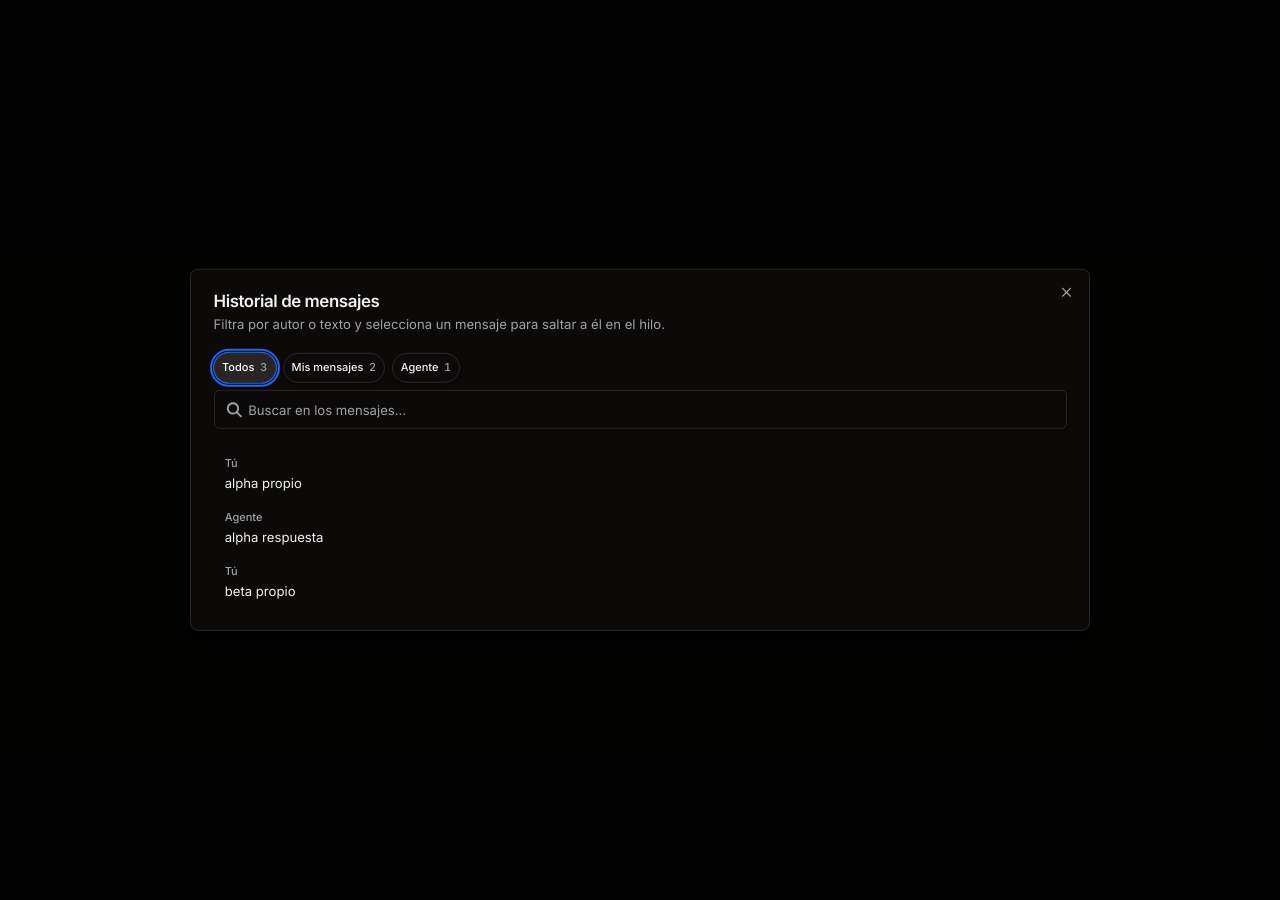
Test: ChatHistoryDialog — filtros combinados (U3) › aplica autor AND texto
Click the button with test id "chat-history-author-user": (334,367) x1=283 y1=352 x2=385 y2=382
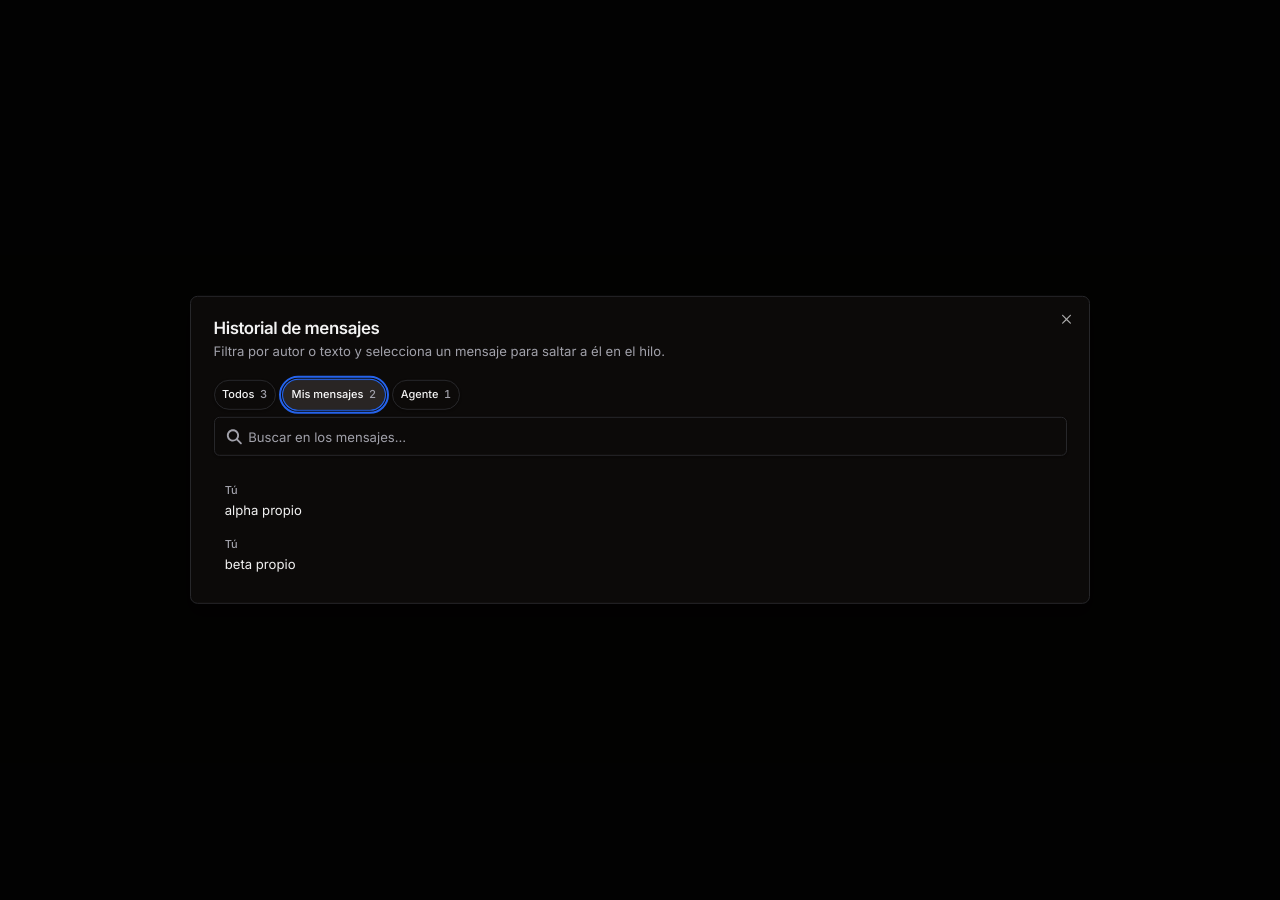
In the search field labelled "Buscar en los mensajes": (640,436) x1=214 y1=417 x2=1066 y2=456, type "alpha"
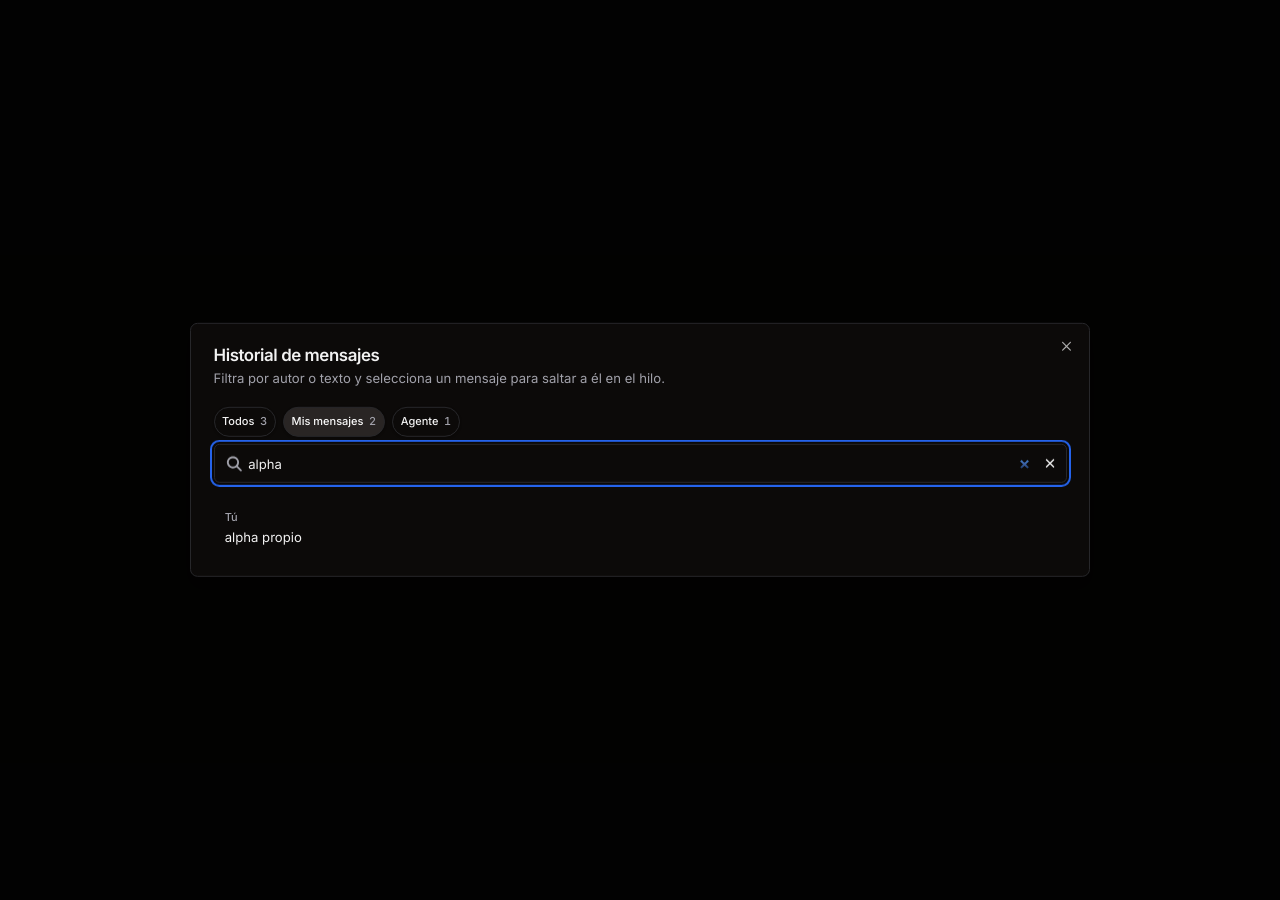
Expected: the number of buttons with test id "chat-history-item" is 1, x1=214 y1=502 x2=1063 y2=554
